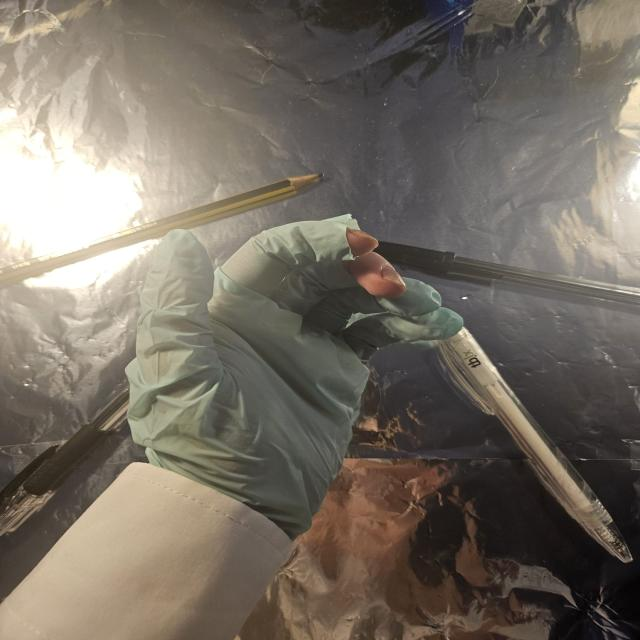gloves_damaged: (122, 210, 465, 543)
